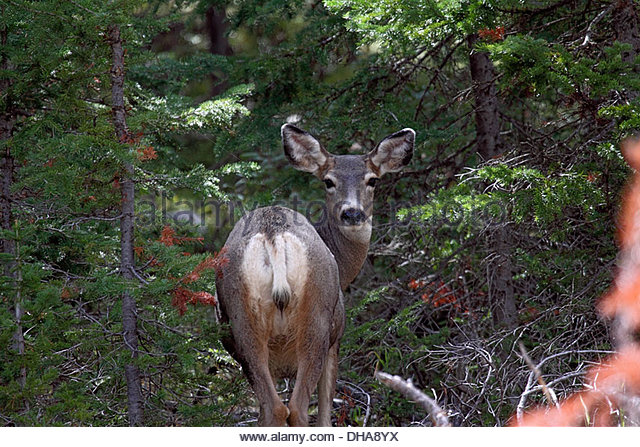Deer: (212, 123, 415, 429)
